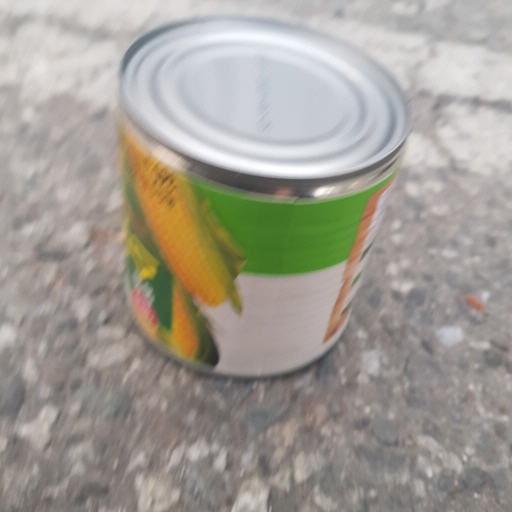Metal_1: (105, 15, 412, 384)
